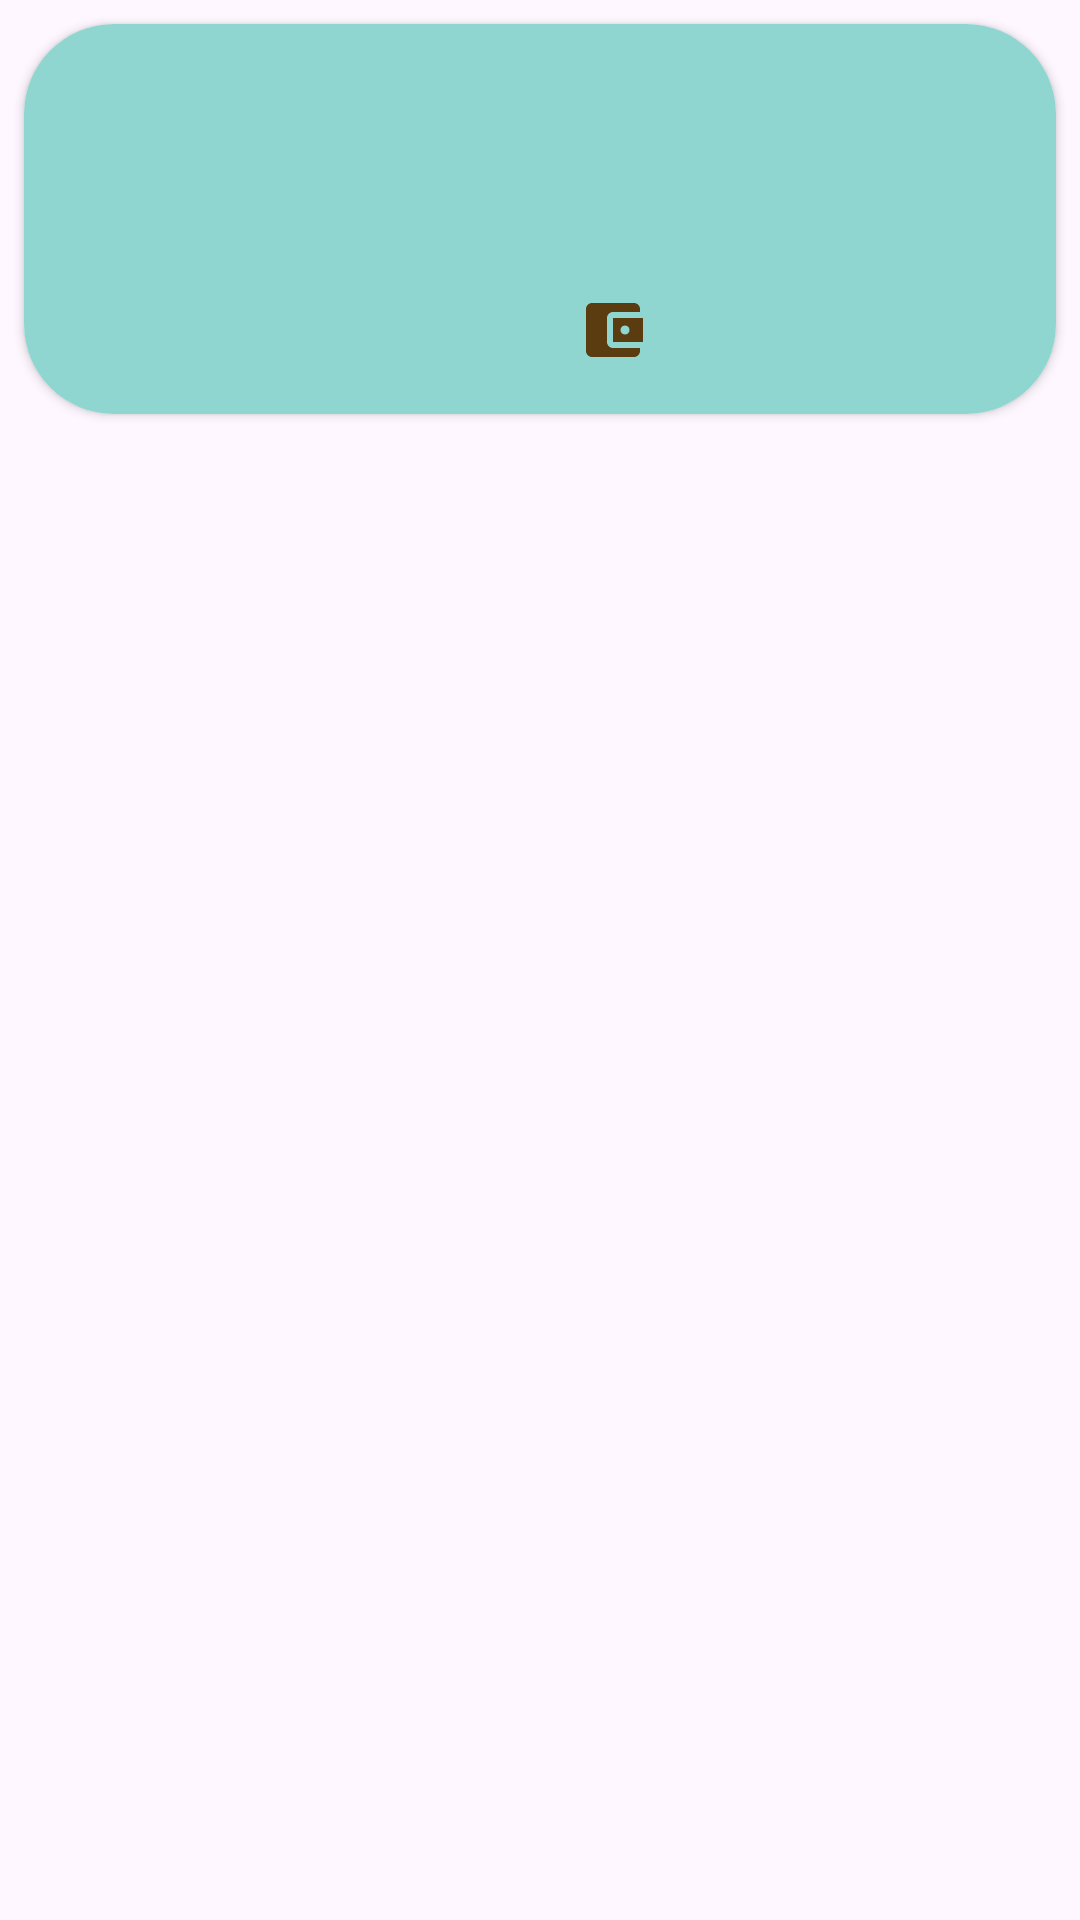

Screen size 1080 × 1920. Icon name, then its box in pixels as (x1,y1,x2,y2):
price type: (586,303,643,357)
